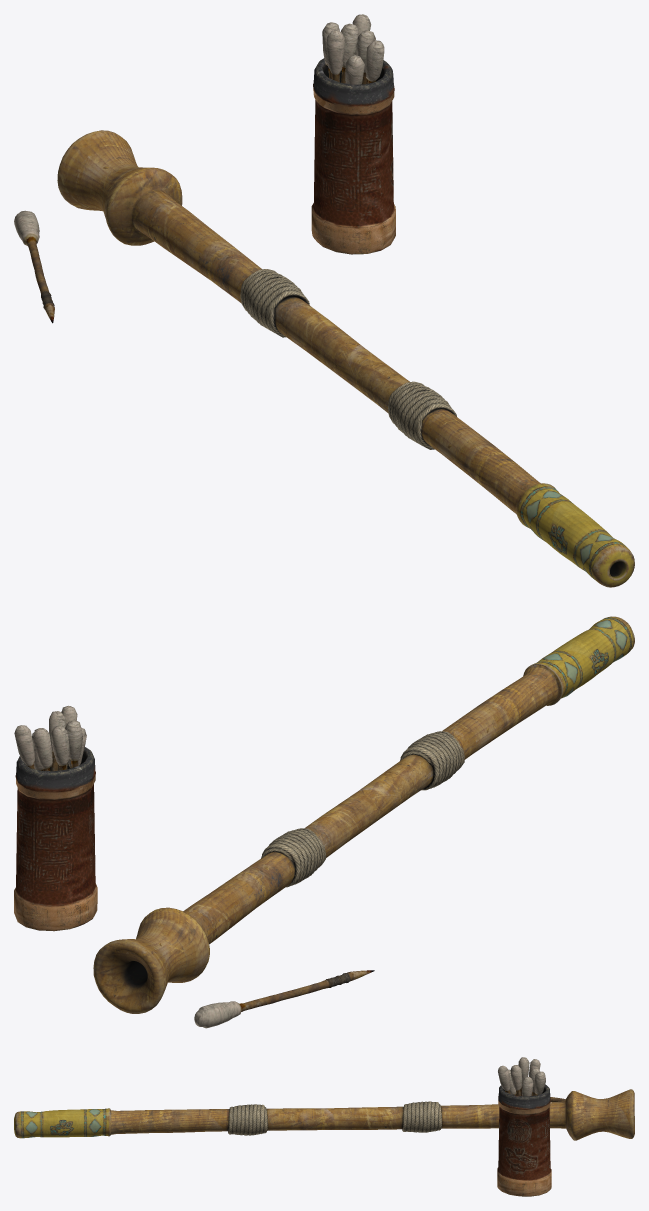
Rendered from aztec_blowgun_and_darts.glb.
3 views of the same model, one above another, from view 1: azimuth 30°, elevation 25°; view 2: azimuth 150°, elevation 25°; view 3: azimuth 270°, elevation 25° (orthographic). The views are drawn at different scales.
Parts seen in each view (by area): view 1: blowgun HUD, blowgun_ammo, dart_HUD; view 2: blowgun HUD, blowgun_ammo, dart_HUD; view 3: blowgun HUD, blowgun_ammo.
Part boxes in pixels (left/top/right/bottom): blowgun HUD: left=57, top=130, right=634, bottom=587; blowgun_ammo: left=311, top=14, right=395, bottom=254; dart_HUD: left=14, top=210, right=54, bottom=323; blowgun HUD: left=93, top=616, right=634, bottom=1013; blowgun_ammo: left=14, top=705, right=97, bottom=931; dart_HUD: left=194, top=970, right=374, bottom=1028; blowgun HUD: left=14, top=1089, right=634, bottom=1140; blowgun_ammo: left=497, top=1057, right=551, bottom=1196.
Size of what is drawn, in the model's own units: 0.5439 by 0.3051 by 1.39.
2 materials, 2 textured.
